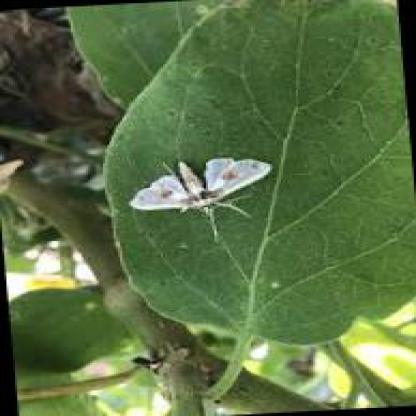leucinodes: (130, 158, 274, 217)
